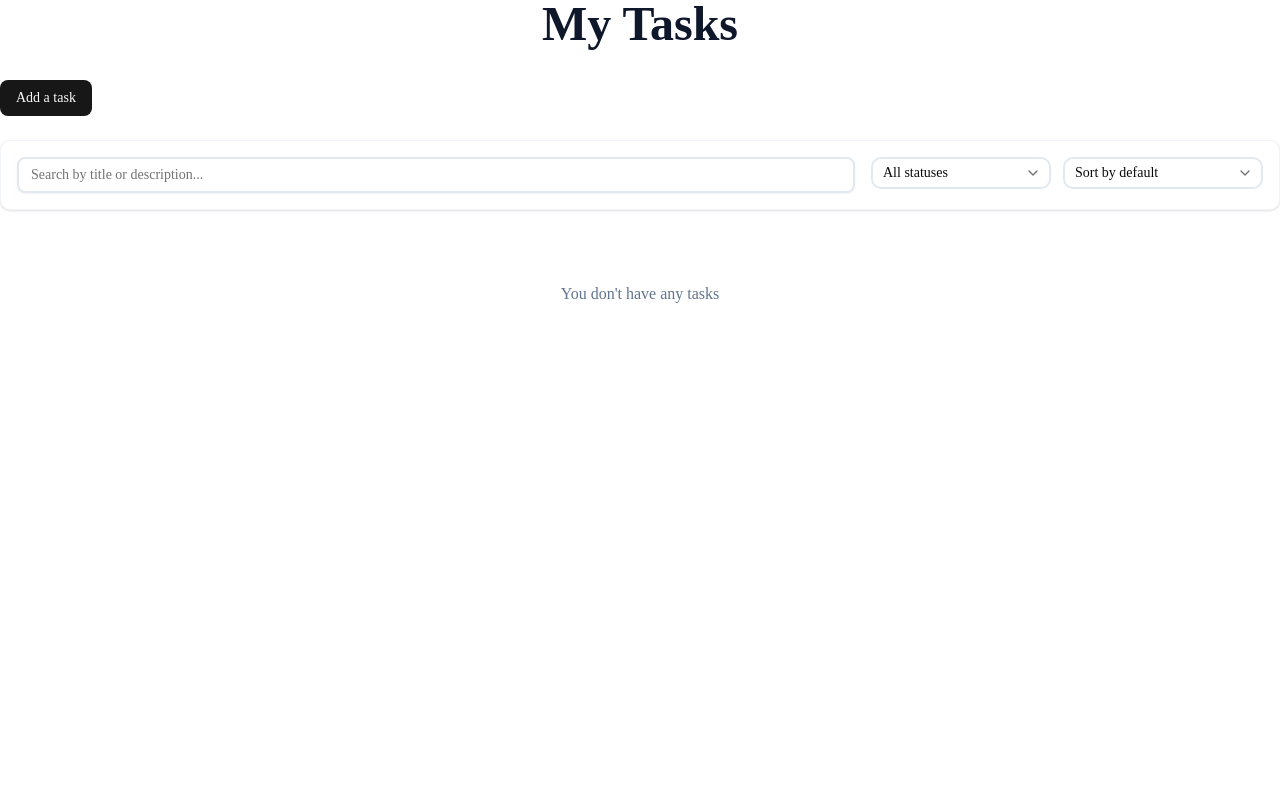
TodoList Component › opens the modal when 'Add a task' button is clicked
Click the button "Add a task" at x=46, y=98, box left=0, top=80, right=92, bottom=116
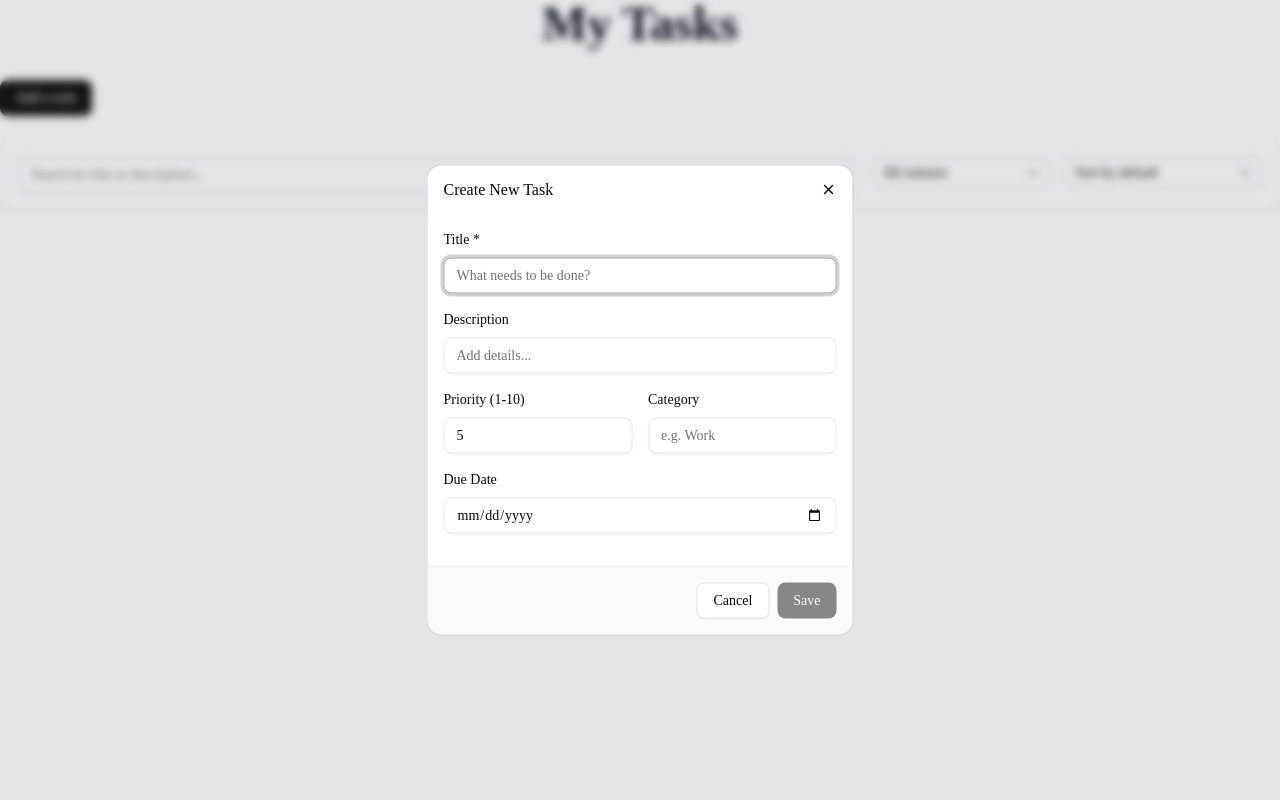
Now the heading "Create New Task" is shown, box left=444, top=180, right=553, bottom=198
